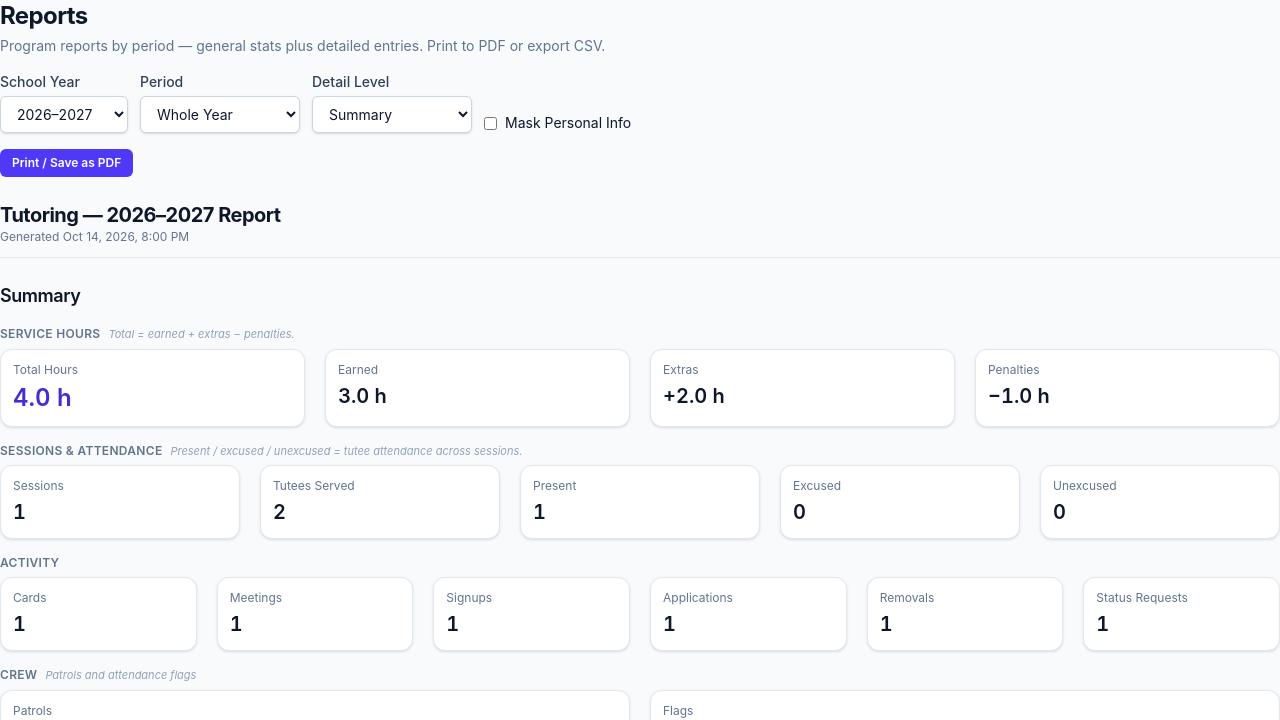
Test: adds a final Details link to every history report while retaining detailed print cells
Select "Full Archive" in the dropdown labelled "Detail Level" at (392, 114), box [312,96,472,133]
(page scrolled)
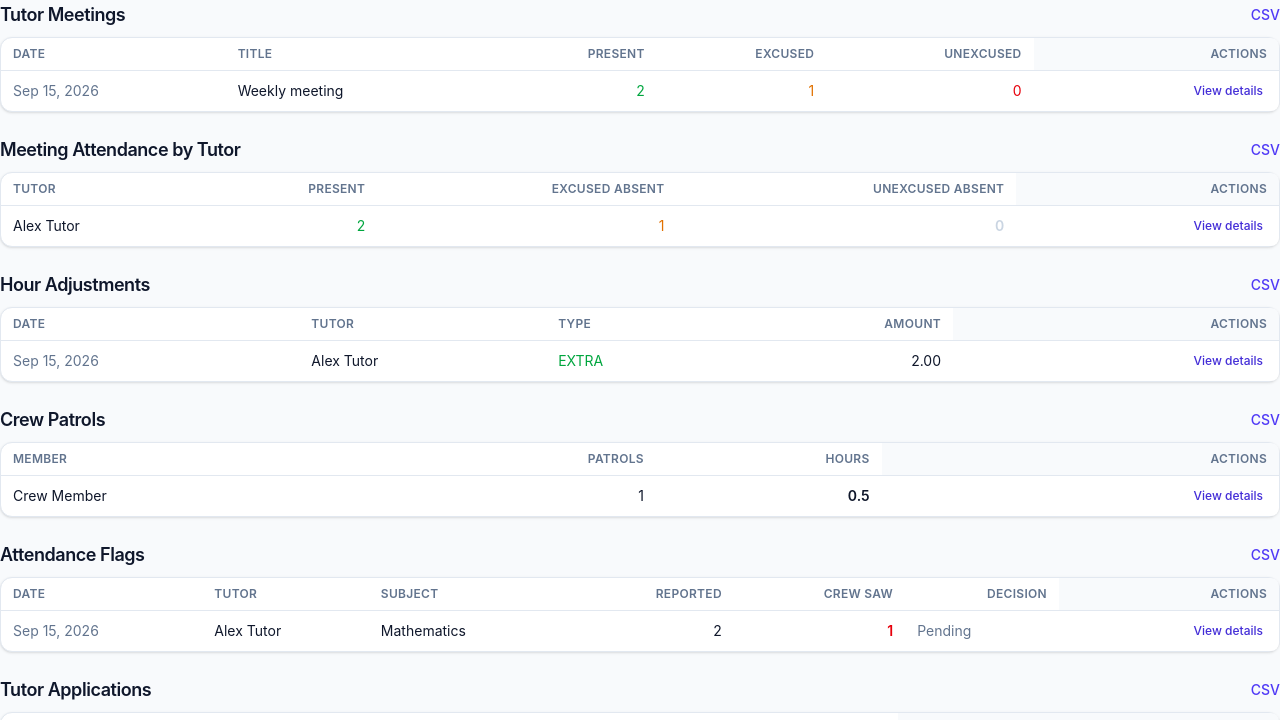
Click the button with aria-label "View details:" at (1228, 360), box [1190,348,1267,372]
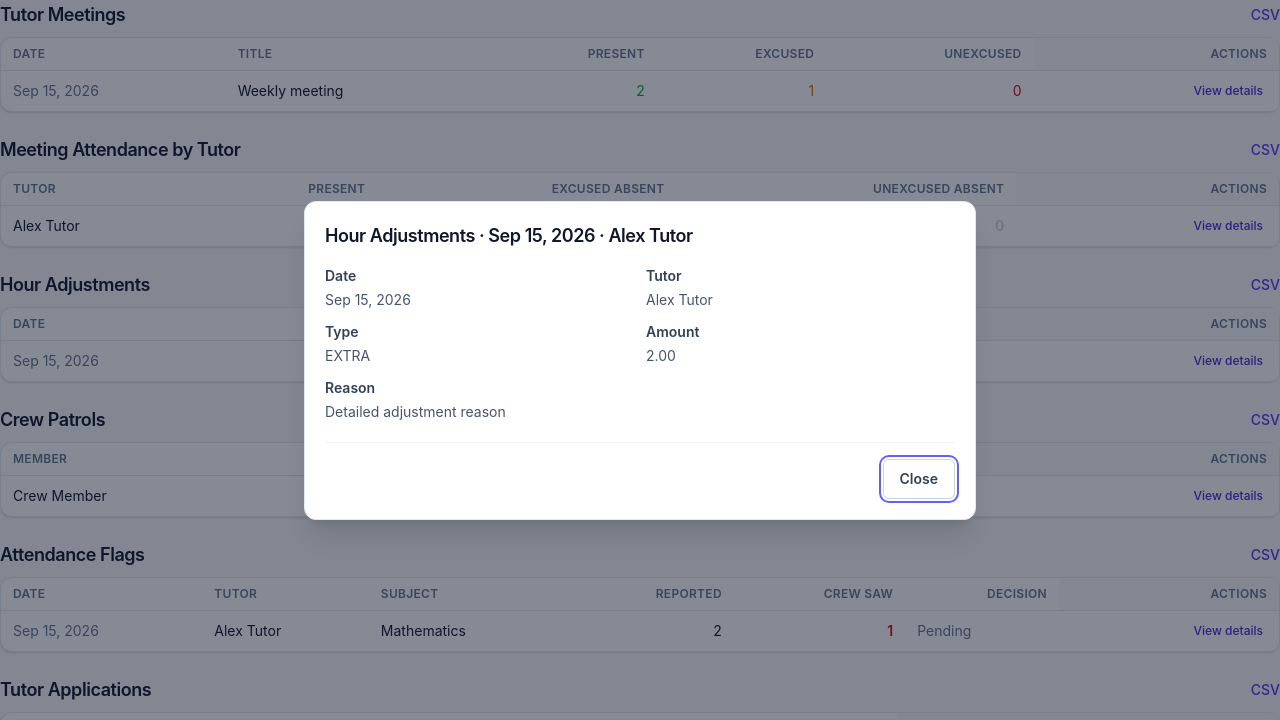
Result: the text "Detailed adjustment reason" is shown at [325,402,506,420]
